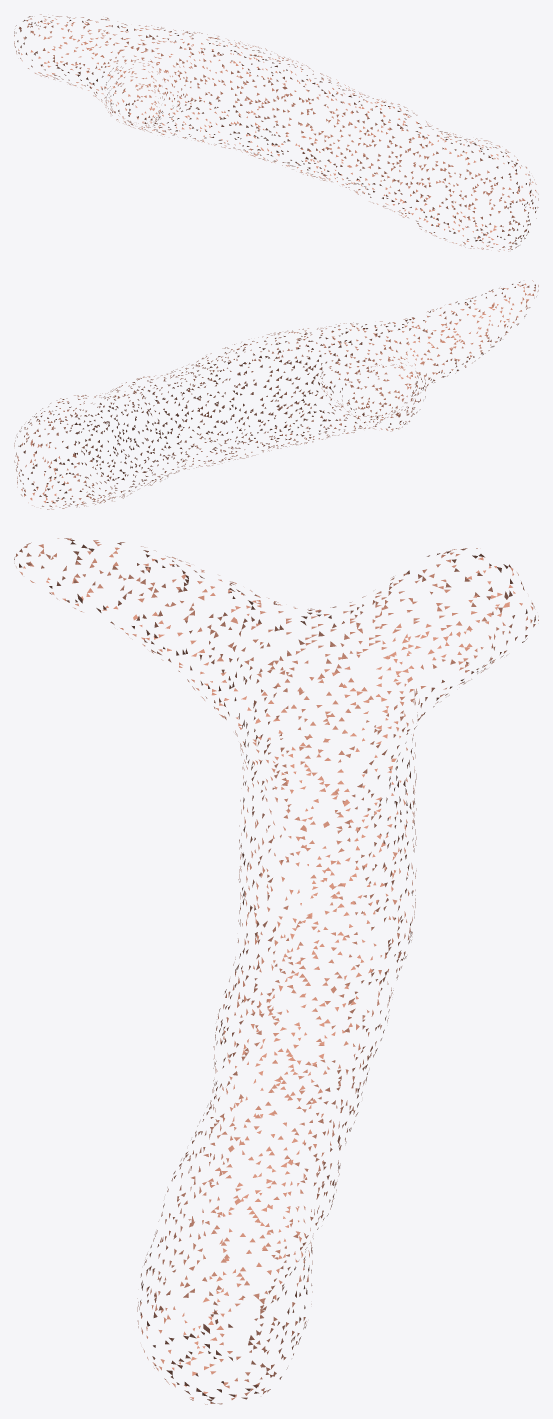
File: morph_003.glb
3 views of the same model, one above another, from view 1: azimuth 30°, elevation 25°; view 2: azimuth 150°, elevation 25°; view 3: azimuth 270°, elevation 25° (orthographic). The views are drawn at different scales.
Bounding box in the file's own units: 108 × 66.1 × 61.63.
